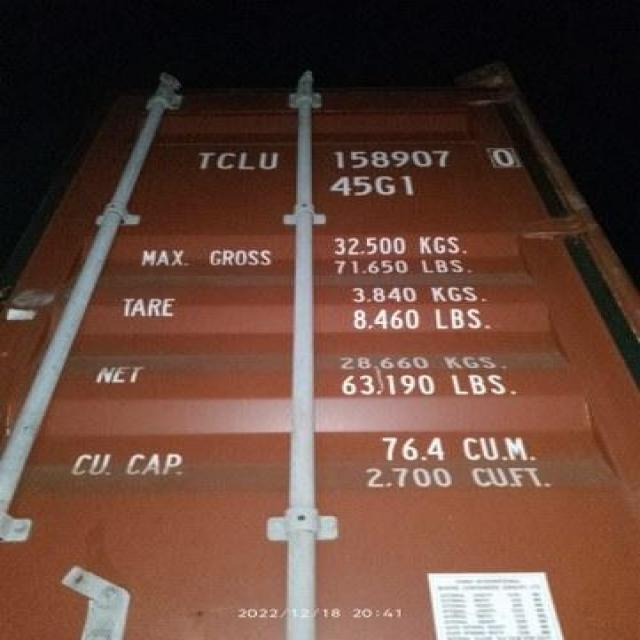container_number_h: (162, 127, 577, 219)
